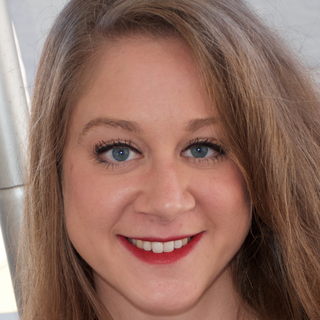eye: (92, 138, 144, 171), (173, 138, 228, 166)
